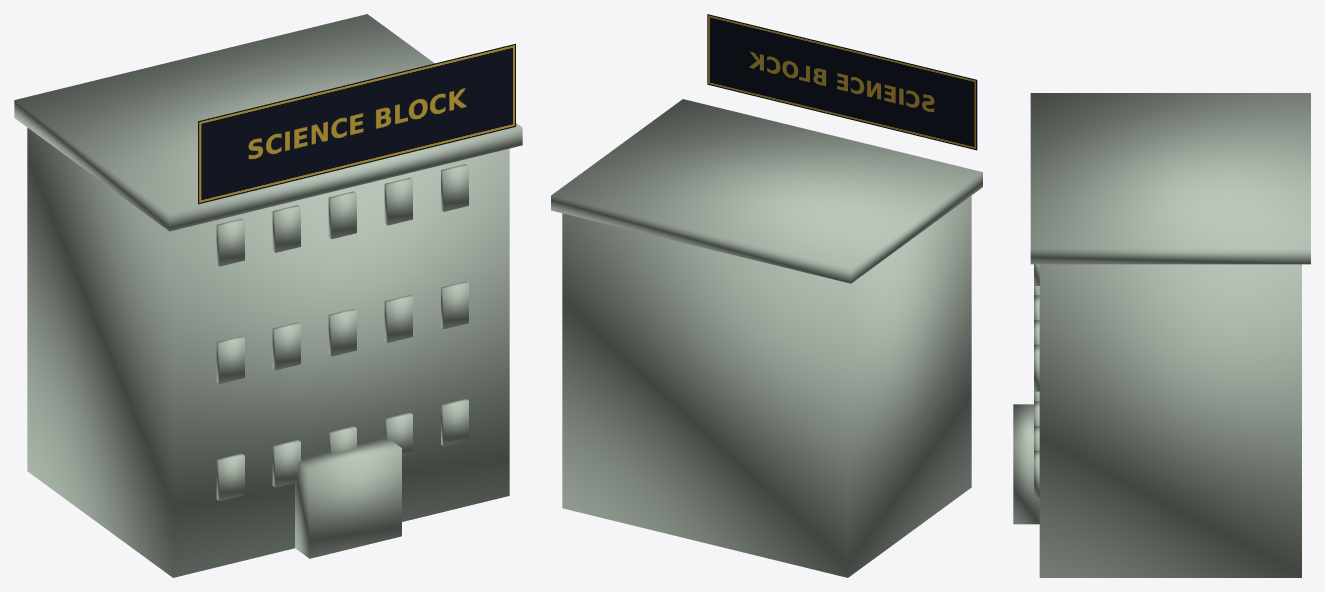
File: science-block.glb
3 renders of one model, left to right at view 1: azimuth 30°, elevation 25°; view 2: azimuth 150°, elevation 25°; view 3: azimuth 270°, elevation 25°, orthographic. The views are drawn at different scales.
Parts seen in each view (by area): view 1: Model, Sign; view 2: Model, Sign; view 3: Model.
Part boxes in pixels (x1,y1,x2,y2): Model: [14, 14, 522, 577]; Sign: [198, 43, 515, 204]; Model: [551, 99, 982, 577]; Sign: [707, 14, 977, 150]; Model: [1013, 93, 1310, 577].
Size of the model in its own units: 8.4 by 10.59 by 6.85.
1 material, 1 textured.
